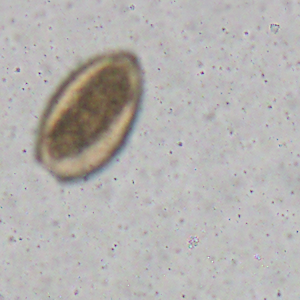Fasciola_hepatica_egg: (34, 47, 145, 184)
